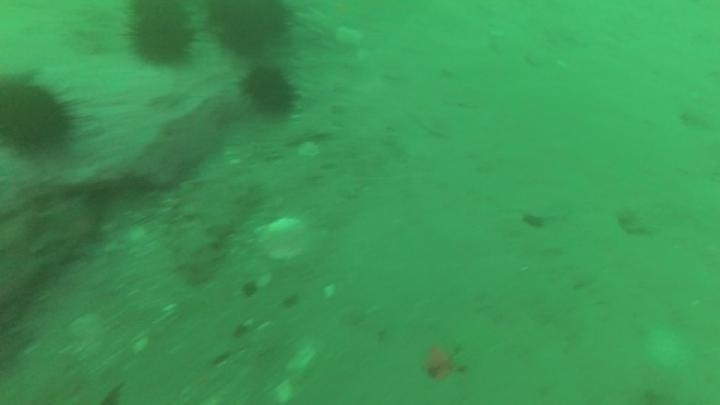echinus: (1, 71, 81, 160), (204, 1, 294, 58), (123, 3, 199, 70), (238, 62, 302, 120)
holothurian: (171, 170, 262, 285)
starfish: (416, 336, 469, 384)
